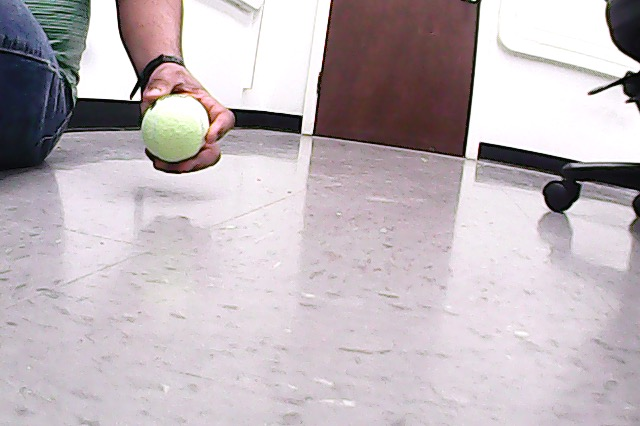ball: (142, 94, 210, 163)
